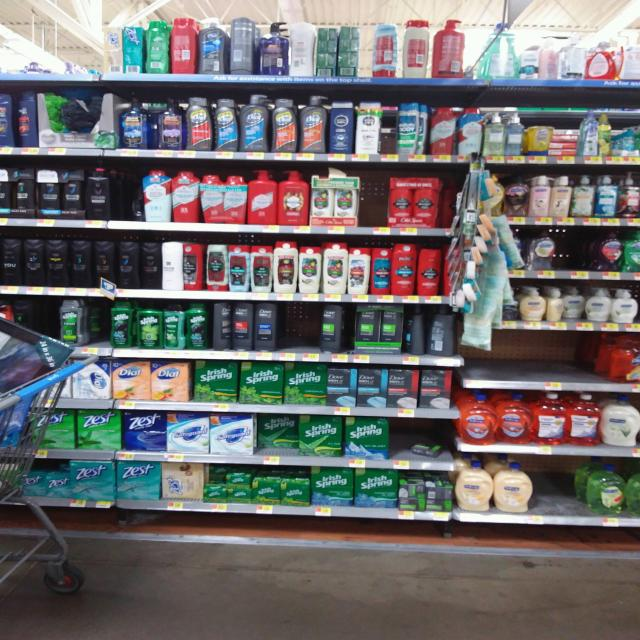empty: (465, 330, 613, 384), (3, 21, 112, 81), (529, 464, 588, 517), (272, 301, 325, 352), (351, 166, 390, 235), (105, 162, 147, 224)
